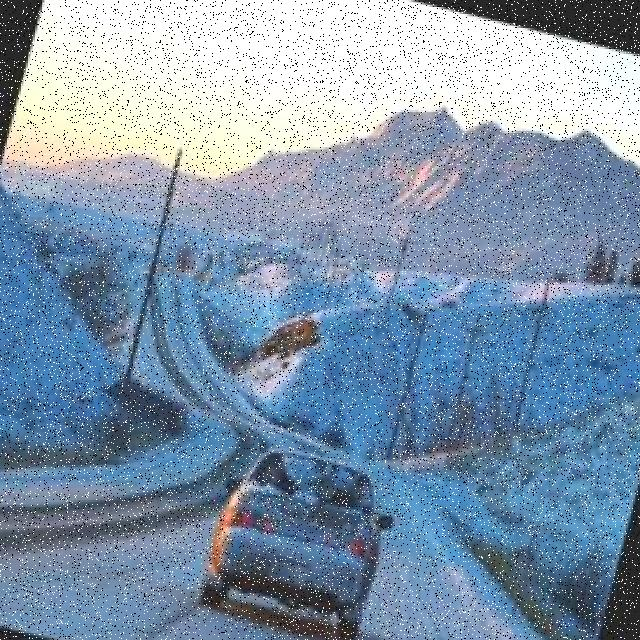ice-road: (0, 420, 336, 640), (361, 478, 548, 640)
